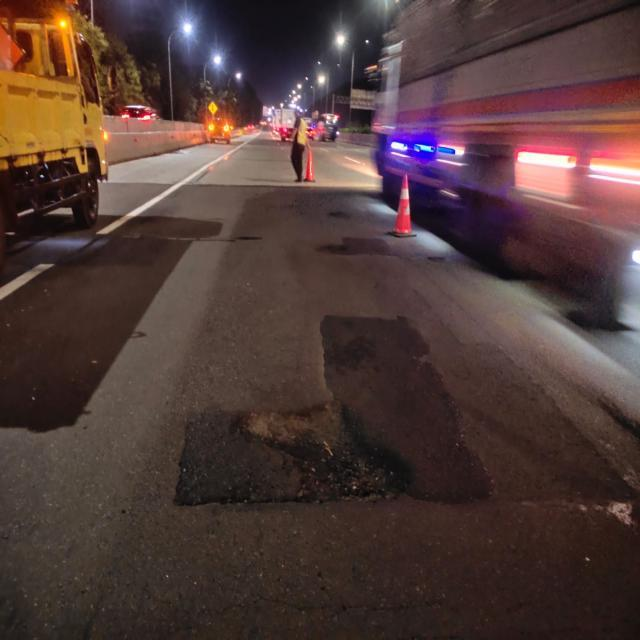Buraco: (228, 396, 417, 508)
